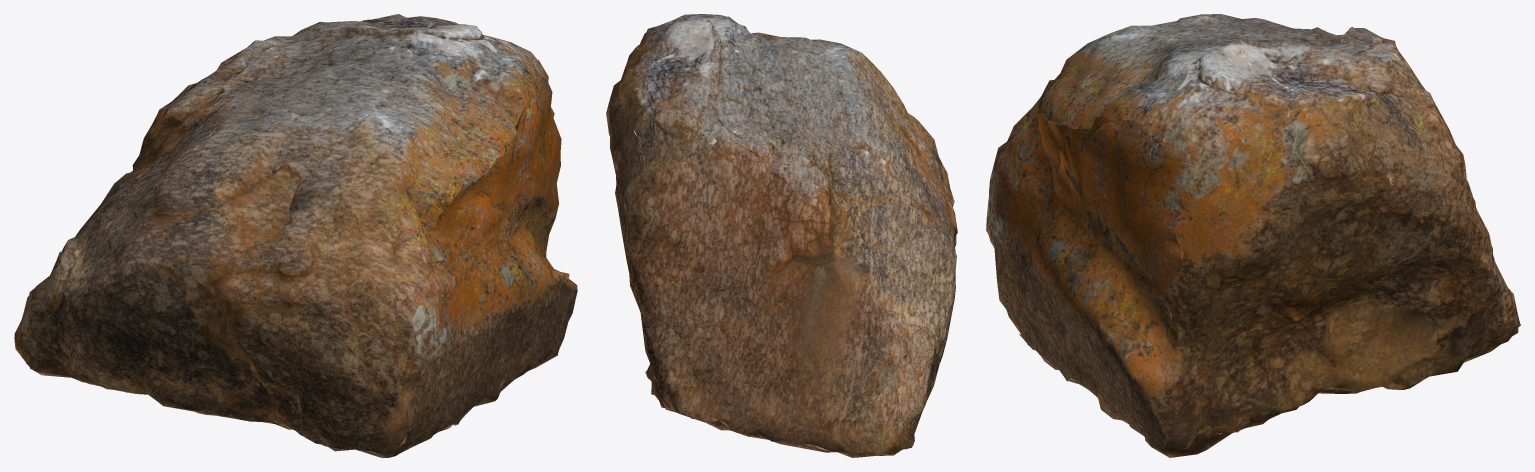
File: namaqualand_boulder_04_LOD1.fbx
The picture shows the model from 3 angles, left to right: view 1: azimuth 30°, elevation 25°; view 2: azimuth 150°, elevation 25°; view 3: azimuth 270°, elevation 25°; orthographic projection. The views are drawn at different scales.
Parts seen in each view (by area): view 1: namaqualand_boulder_04.001; view 2: namaqualand_boulder_04.001; view 3: namaqualand_boulder_04.001.
Boxes of the visible parts, x1,y1,x2,y2 form: namaqualand_boulder_04.001: (14, 14, 577, 457); namaqualand_boulder_04.001: (606, 14, 957, 457); namaqualand_boulder_04.001: (986, 14, 1520, 457).
Bounding box in the file's own units: 2.52 × 1.9 × 2.5.
Materials: 1 (1 with a texture image).
